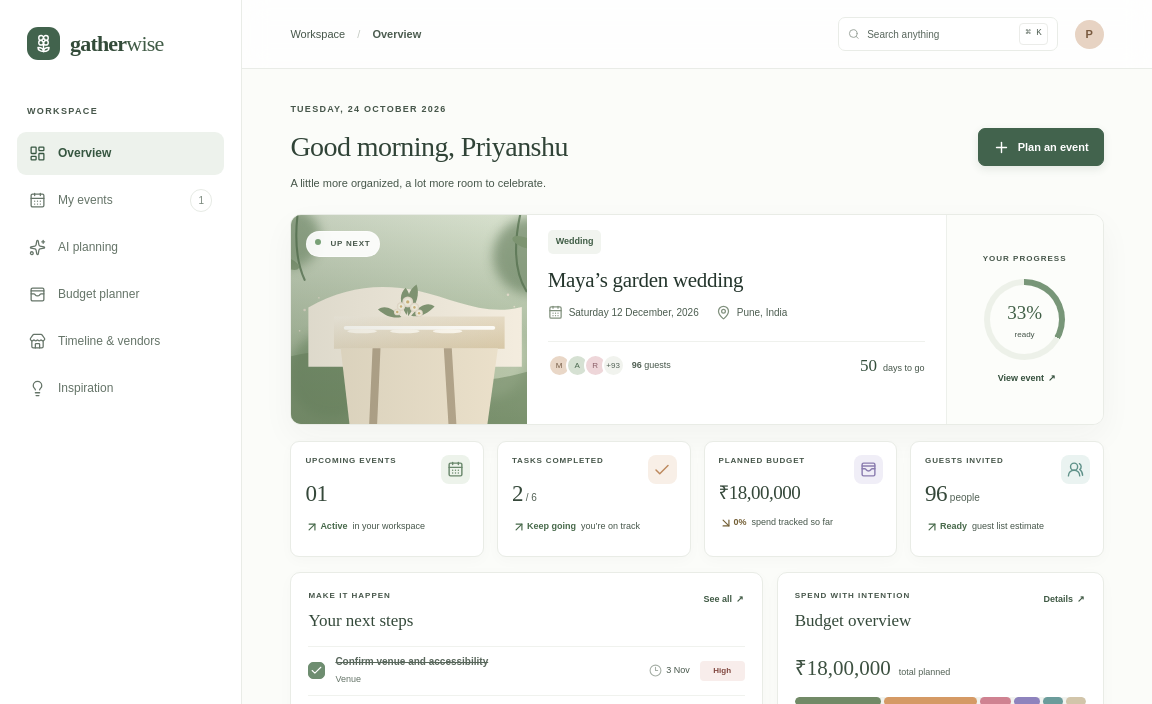
Scenario: planner workspace › generates and applies a validated full plan while preserving event state
Step 1. Click the button "AI planning" → (120, 247), box [17,226,224,268]
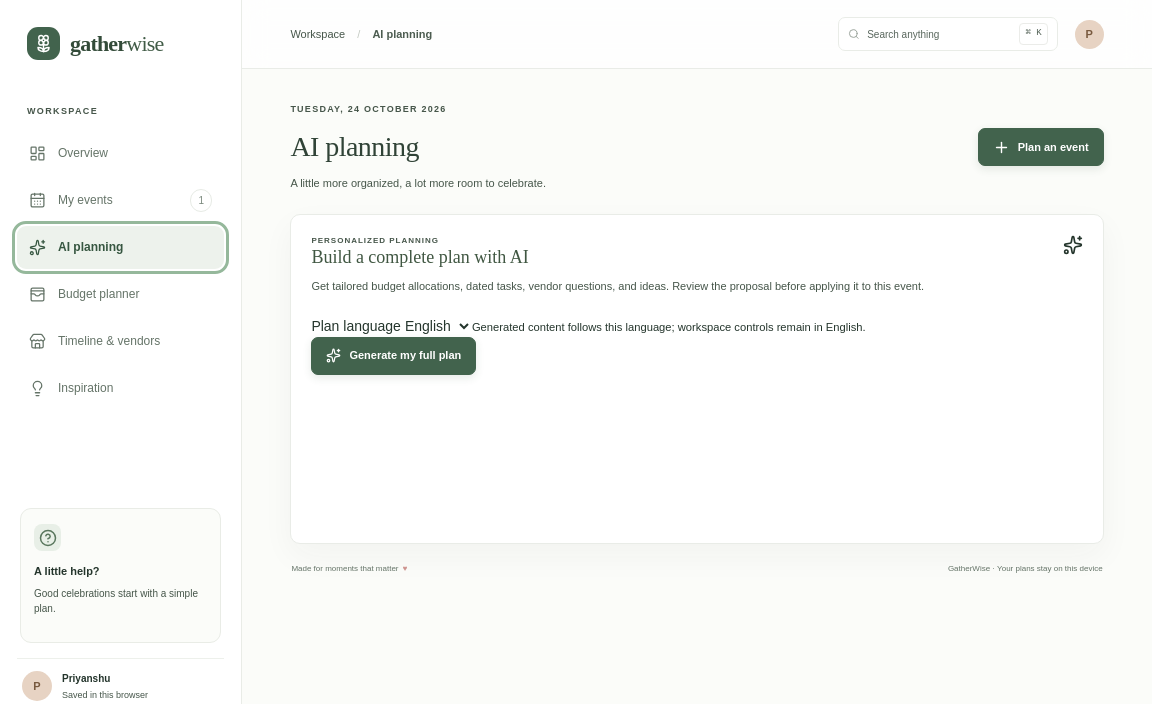
Step 2. Click the button "Generate my full plan" → (394, 356), box [311,337,476,375]
(page scrolled)
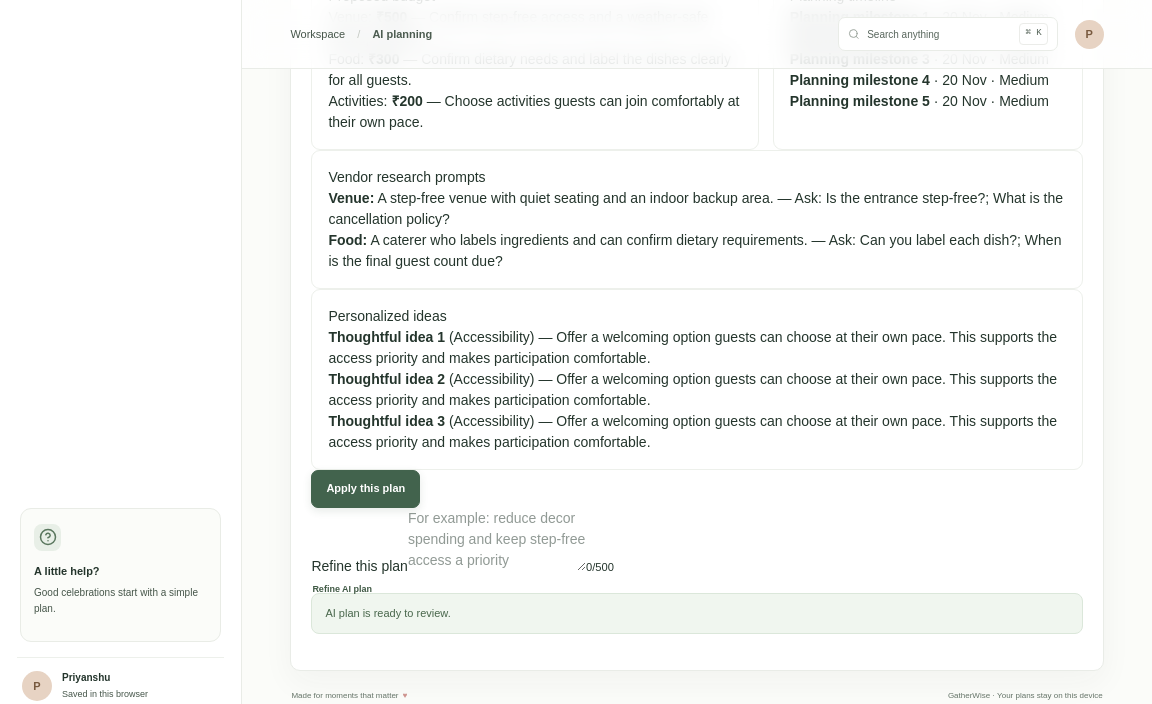
Step 3. Click the button "Apply this plan" → (366, 489), box [311,470,420,508]
(page scrolled)
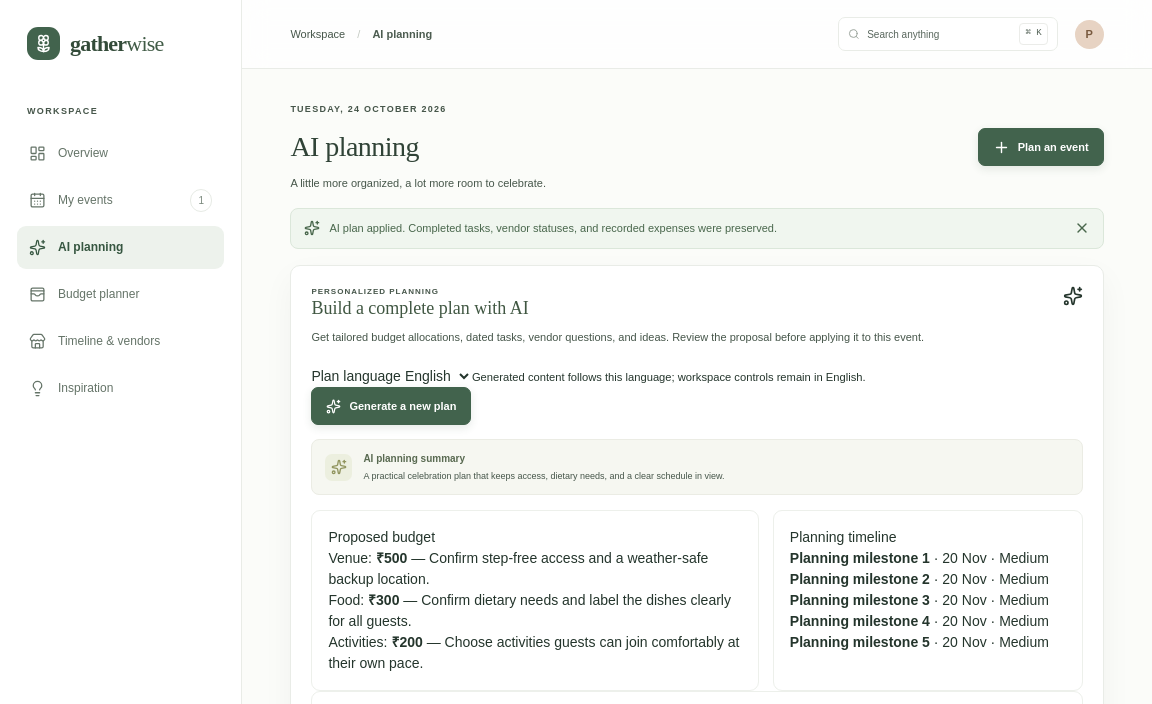
Step 4. Click the button "Budget planner" → (120, 294), box [17,272,224,316]
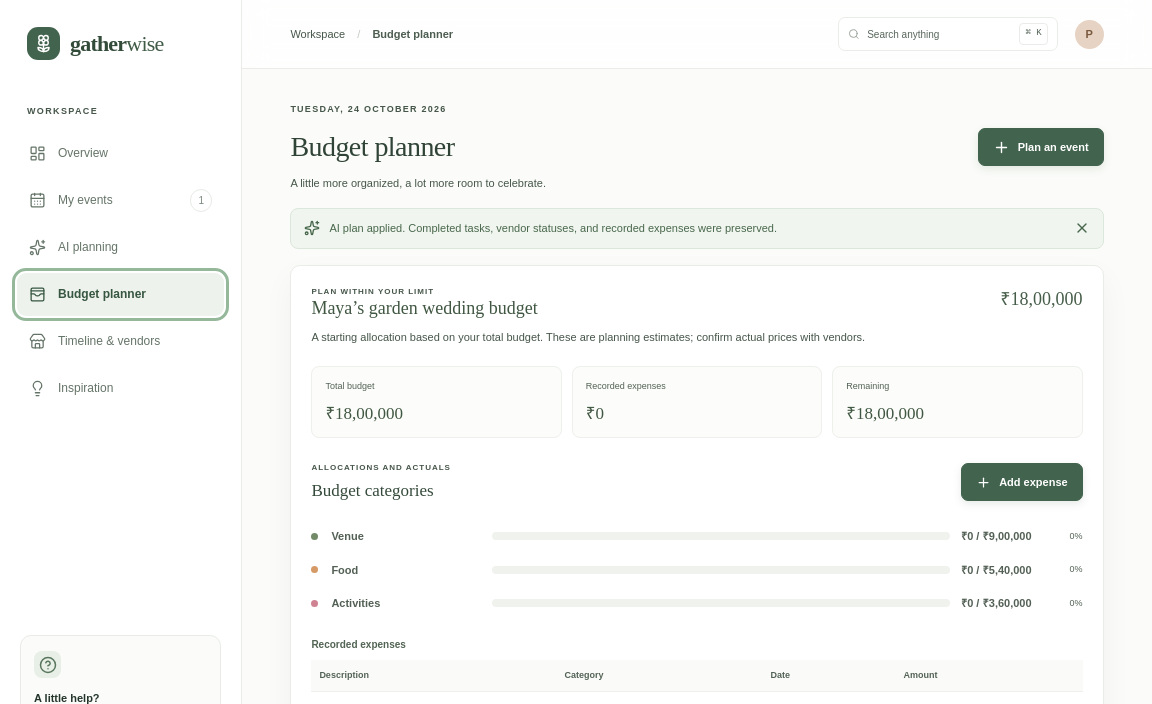
Result: the text "AI plan applied" is shown at [329,222,777,234]
Result: the heading "Maya’s garden wedding budget" is shown at [311,298,538,318]
